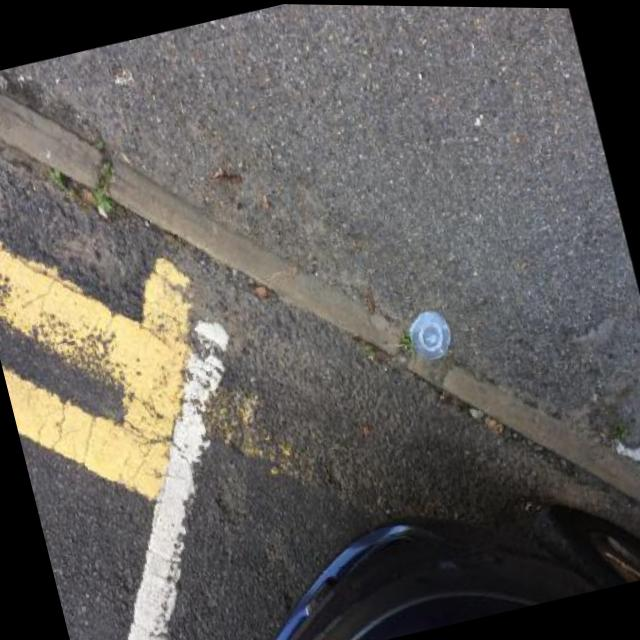plastic: (406, 304, 458, 364)
